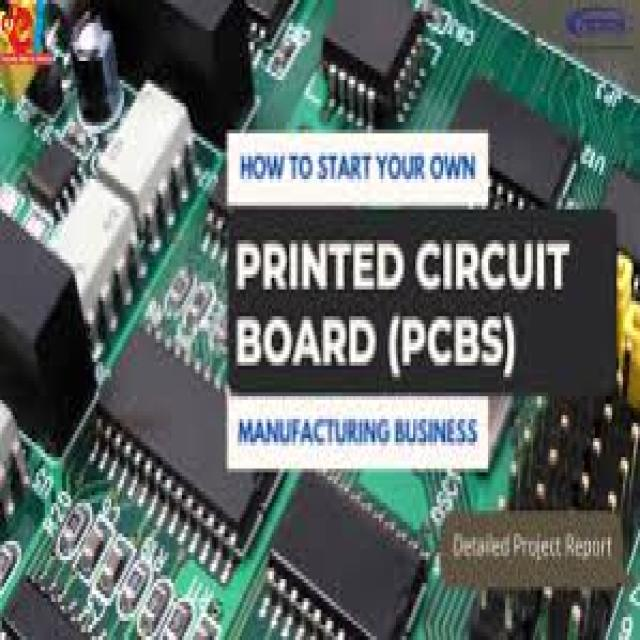pcb: (0, 0, 636, 636), (2, 72, 197, 358), (439, 392, 638, 594), (0, 205, 94, 446), (94, 76, 193, 244), (137, 0, 255, 137), (43, 172, 137, 336)
